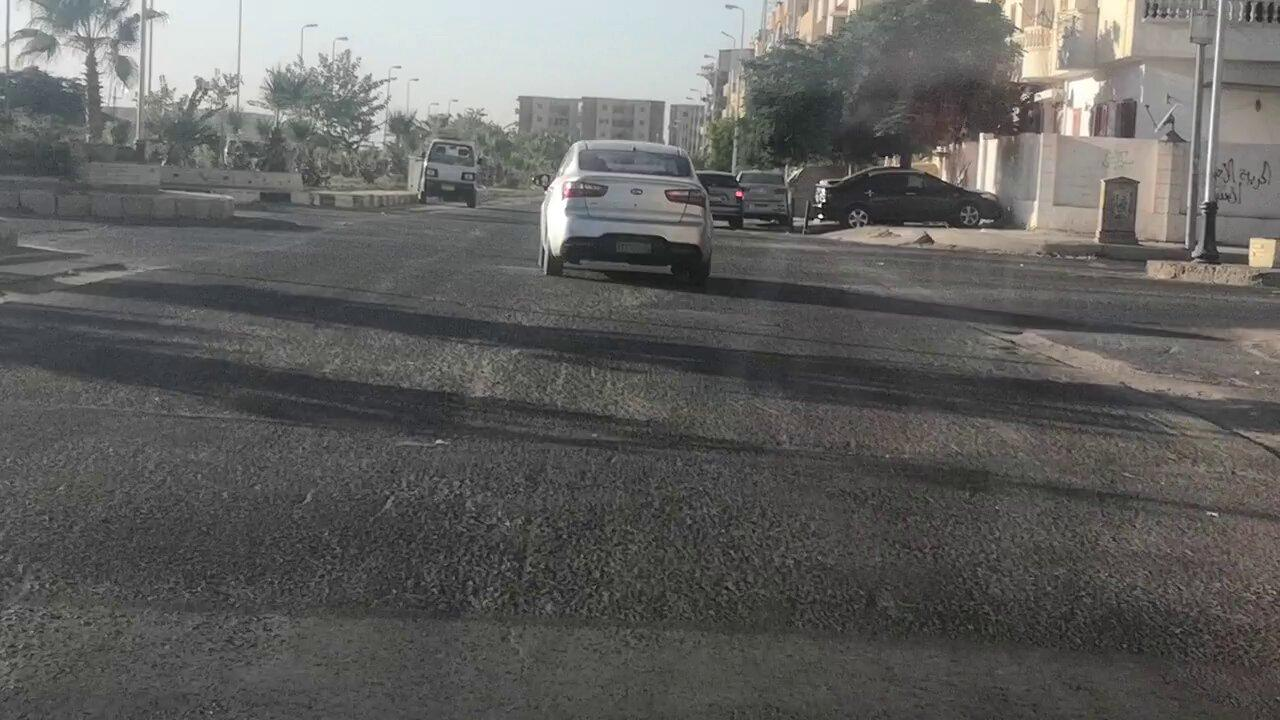Bump: (23, 393, 1280, 661)
